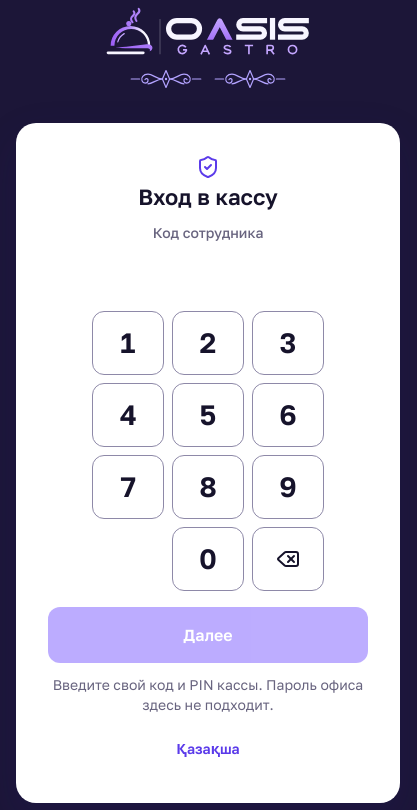
Scenario: LocaleProvider › switching on the sign-in screen applies at once and is remembered on the terminal
The image size is (417, 810).
Expected: the heading "Вход в кассу" is shown, [138, 183, 278, 211]
Expected: the text "Код сотрудника" is shown, [153, 224, 263, 241]
What coordinates should you click on to do the following:
click the button with aria-label "Язык интерфейса"
I would click on:
 (208, 749)
Its box is [160, 727, 256, 771].
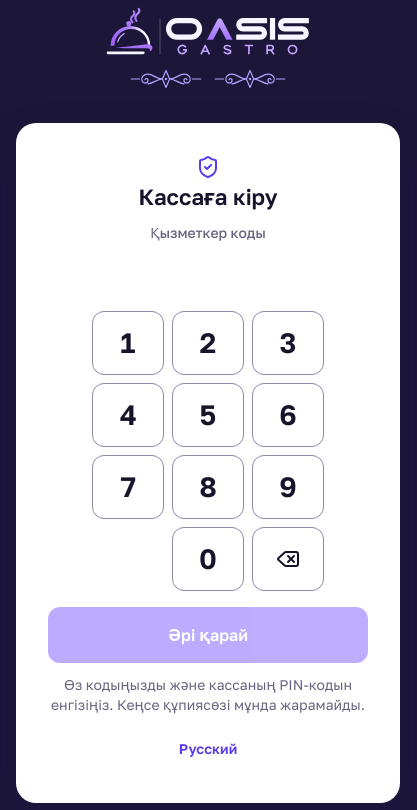
Expected: the heading "Кассаға кіру" is shown, [138, 183, 277, 211]
Expected: the text "Қызметкер коды" is shown, [150, 224, 266, 241]
Expected: the button "Әрі қарай" is shown, [48, 607, 368, 663]
